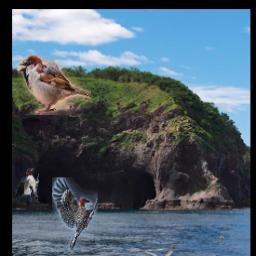Sparrow: (19, 54, 92, 116)
Woodpecker: (53, 177, 99, 250), (15, 168, 39, 204)
